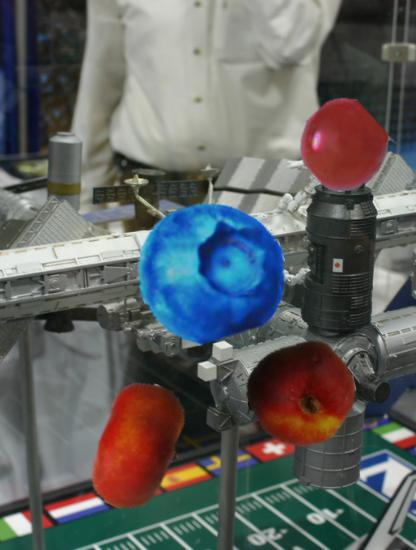Huckleberry: (138, 198, 285, 345)
Nectarine: (74, 382, 204, 512), (247, 340, 357, 450)
Redcurrant: (297, 101, 388, 192)
